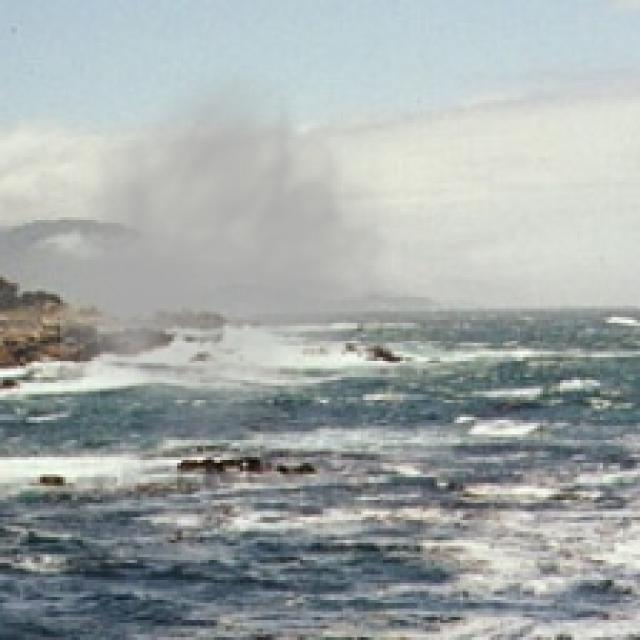smoke: (60, 54, 429, 463)
